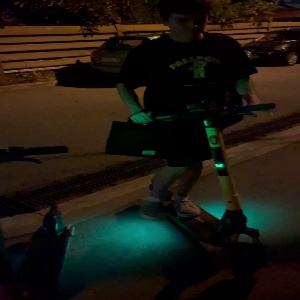human on a scooter: (100, 1, 276, 287)
